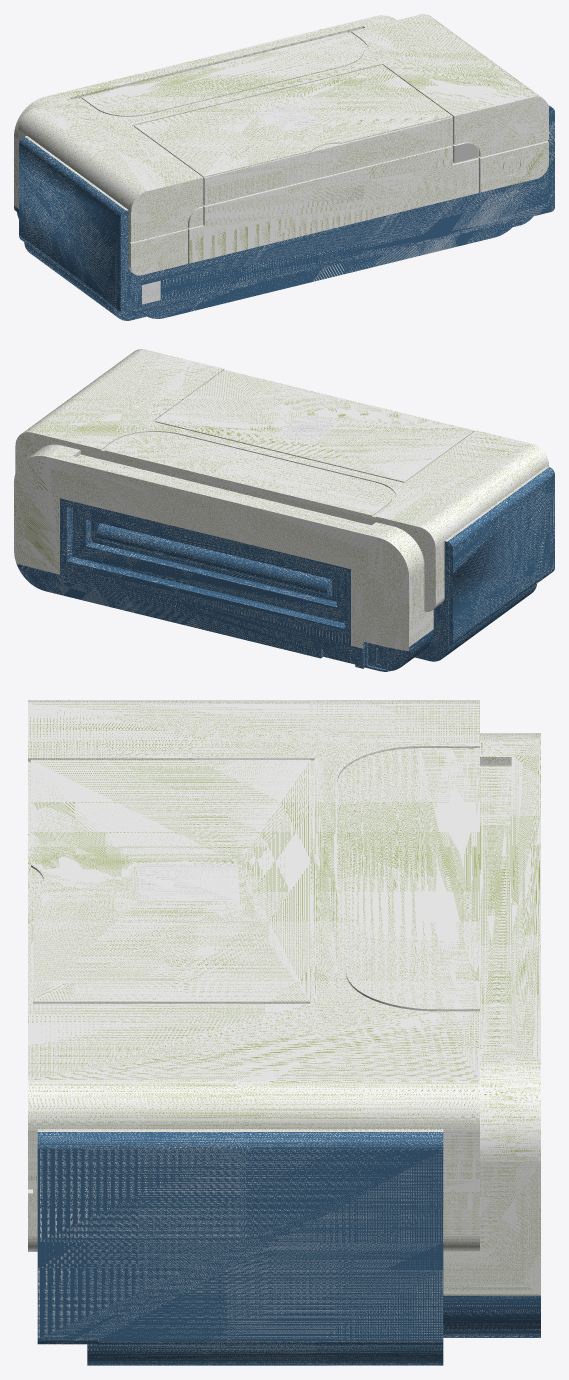
The picture shows the model from 3 angles, top to bottom: view 1: azimuth 30°, elevation 25°; view 2: azimuth 150°, elevation 25°; view 3: azimuth 270°, elevation 25°; orthographic projection. The views are drawn at different scales.
Visible parts, largest first — view 1: mesh1_mesh1-geometry; view 2: mesh1_mesh1-geometry, mesh2_mesh2-geometry; view 3: mesh1_mesh1-geometry.
Boxes of the visible parts, box(x1,y1,x2,y2) form: mesh1_mesh1-geometry: box(14, 14, 554, 320); mesh1_mesh1-geometry: box(14, 349, 554, 671); mesh2_mesh2-geometry: box(97, 523, 331, 596); mesh1_mesh1-geometry: box(28, 700, 540, 1365).
Size of the model in its own units: 0.859 by 0.2639 by 0.4388.
